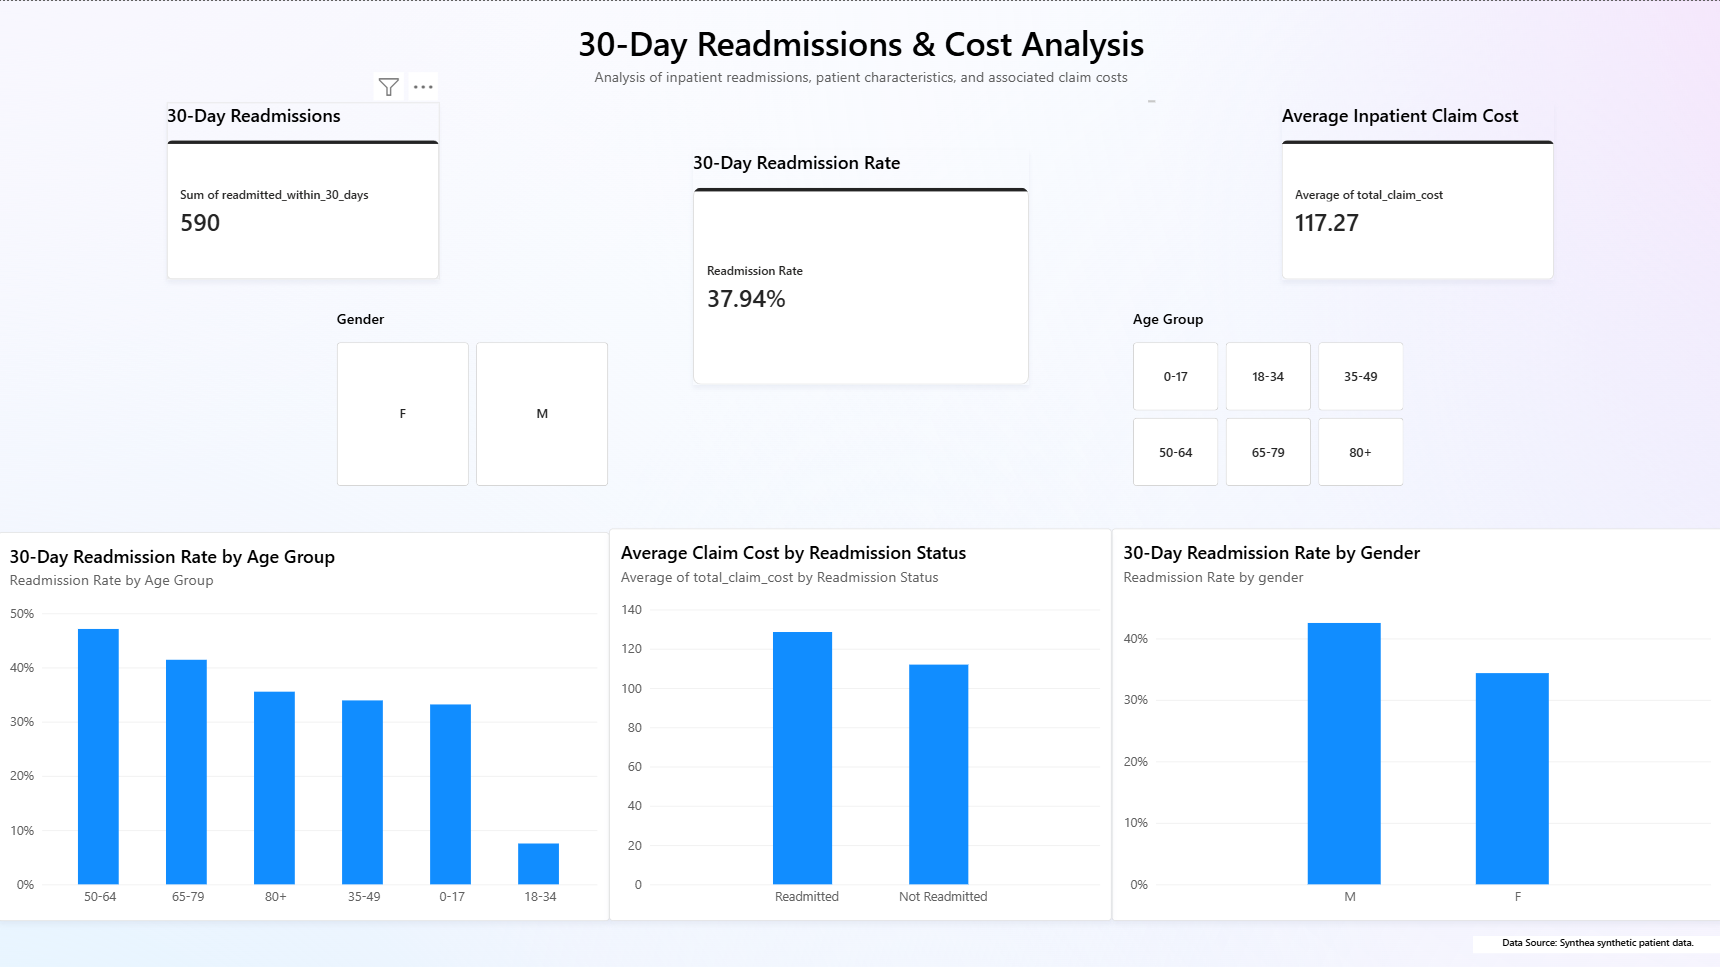

The page's visual inventory and layout, read from the dashboard file:
{"tool":"powerbi","page":{"name":"Readmissions & Cost","canvas":[1920,1080],"ordinal":2},"visuals":[{"type":"textbox","title":"30-Day Readmissions & Cost Analysis","box":[633.1,20.9,655.4,91.8],"z":0},{"type":"cardVisual","title":"30-Day Readmissions","fields":{"Data":["Sum(public vw_readmission_detail.readmitted_within_30_days)"]},"box":[187.9,112.7,303.3,197.6],"z":1000},{"type":"cardVisual","title":"30-Day Readmission Rate","fields":{"Data":["public vw_readmission_detail.Readmission Rate"]},"box":[773.7,165.6,374.3,261.6],"z":2000},{"type":"cardVisual","title":"Average Inpatient Claim Cost","fields":{"Data":["Avg(public vw_readmission_detail.total_claim_cost)"]},"box":[1429.1,112.7,303,198],"z":3000},{"type":"clusteredColumnChart","title":"30-Day Readmission Rate by Gender","fields":{"Category":["public vw_readmission_detail.gender"],"Y":["public vw_readmission_detail.Readmission Rate"]},"box":[1239.8,587.2,680.4,436.9],"z":4000},{"type":"clusteredColumnChart","title":"30-Day Readmission Rate by Age Group","fields":{"Category":["public vw_readmission_detail.Age Group"],"Y":["public vw_readmission_detail.Readmission Rate"]},"box":[0,591.4,680.4,432.8],"z":5000},{"type":"clusteredColumnChart","title":"Average Claim Cost by Readmission Status","fields":{"Category":["public vw_readmission_detail.Readmission Status"],"Y":["Avg(public vw_readmission_detail.total_claim_cost)"]},"box":[680.4,587.2,559.4,436.9],"z":6000},{"type":"advancedSlicerVisual","title":"Gender","fields":{"Values":["public vw_readmission_detail.gender"]},"box":[377.1,342.3,303,198],"z":7000},{"type":"advancedSlicerVisual","fields":{"Values":["public vw_readmission_detail.Age Group"]},"box":[1263.5,342.3,303,198],"z":8000},{"type":"textbox","title":"Data Source: Synthea synthetic patient data. ","box":[1642,1040.8,278.3,19.5],"z":8001}]}

Visuals, with their boxes in screenshot pixels (x1, y1, x2, y2), scaled from the page's 1920x1080 canvas onto the 1720x967 screenshot:
"30-Day Readmissions & Cost Analysis" textbox: 567:19:1154:101
"30-Day Readmissions" cardVisual: 168:101:440:278
"30-Day Readmission Rate" cardVisual: 693:148:1028:383
"Average Inpatient Claim Cost" cardVisual: 1280:101:1552:278
"30-Day Readmission Rate by Gender" clusteredColumnChart: 1111:526:1719:917
"30-Day Readmission Rate by Age Group" clusteredColumnChart: 0:530:610:917
"Average Claim Cost by Readmission Status" clusteredColumnChart: 610:526:1111:917
"Gender" advancedSlicerVisual: 338:306:609:484
advancedSlicerVisual - public vw_readmission_detail.Age Group: 1132:306:1403:484
"Data Source: Synthea synthetic patient data. " textbox: 1471:932:1719:949
